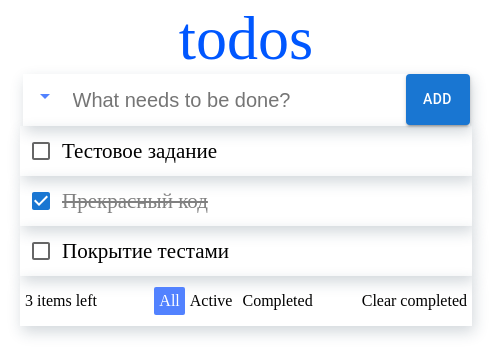
Test: App › Arrow click
Expected: the text "Тестовое задание" is shown, x1=62 y1=138 x2=217 y2=164
Click the icon with test id "arrowopen-btn". click: click(44, 96)
box: x1=32 y1=84 x2=56 y2=108
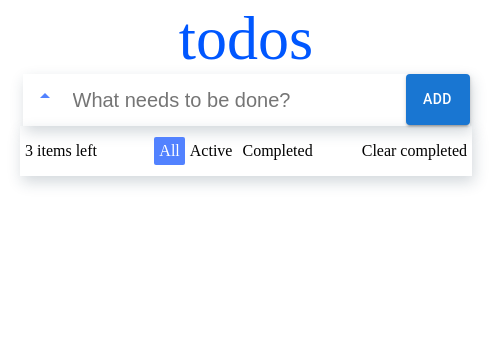
Result: the icon with test id "arrowclose-btn" is shown
Result: the checkbox "Тестовое задание" is gone
Click the icon with test id "arrowclose-btn". click: click(44, 96)
box: x1=32 y1=84 x2=56 y2=108
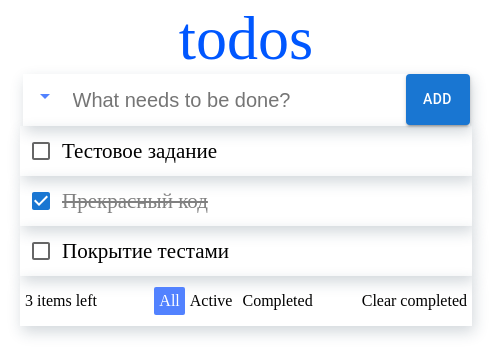
Result: the icon with test id "arrowclose-btn" is gone
Result: the text "Тестовое задание" is shown at x1=62 y1=138 x2=217 y2=164
